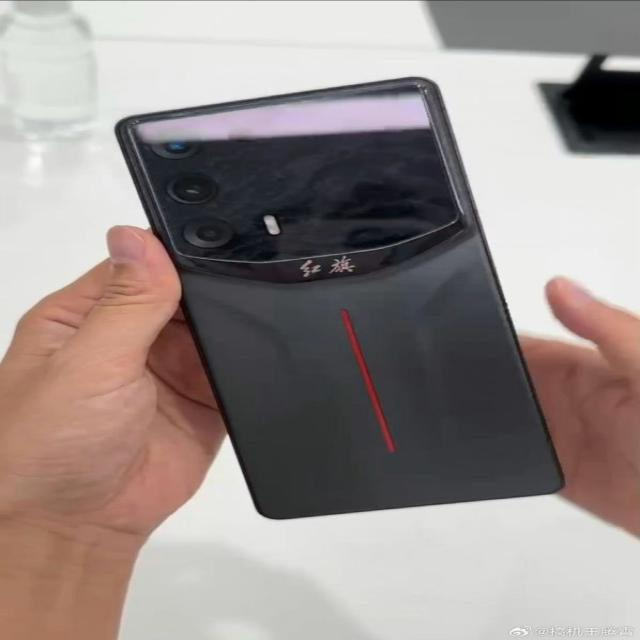mobile_phone: (79, 70, 574, 544)
